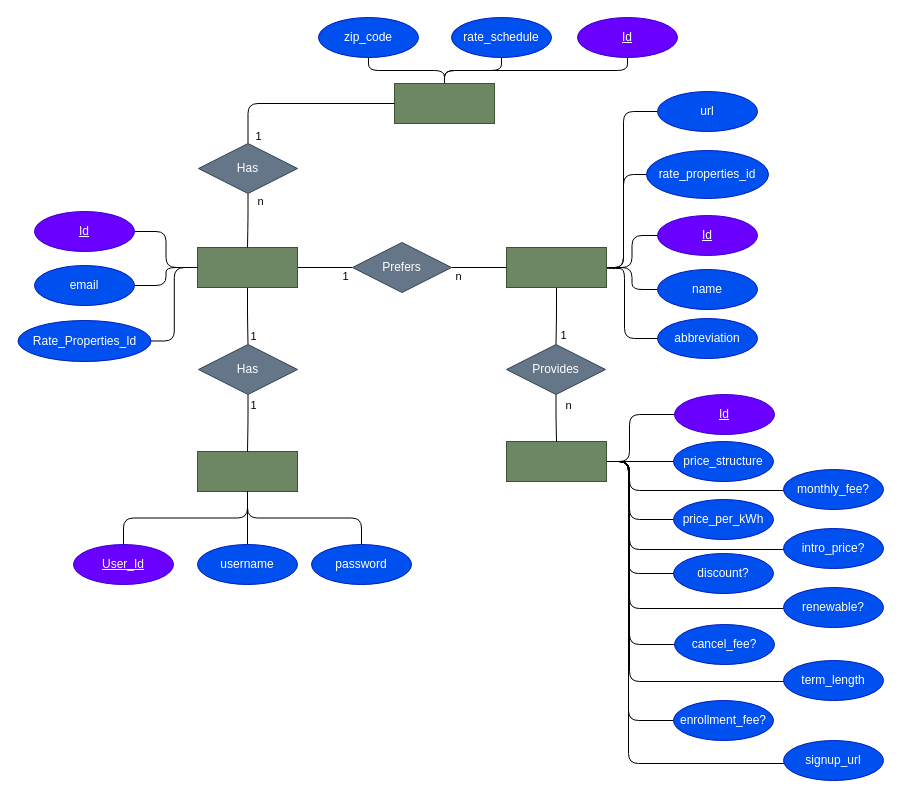
This 901x798 diagram has some shape labels left out. Here are the shapes that lost their labels. From the top down, the centre of each, then its label:
At [444,103]: "Rate_Properties".
At [247,267]: "Users".
At [556,267]: "Distributors".
At [247,471]: "Authentication".
At [556,461]: "Offers".
